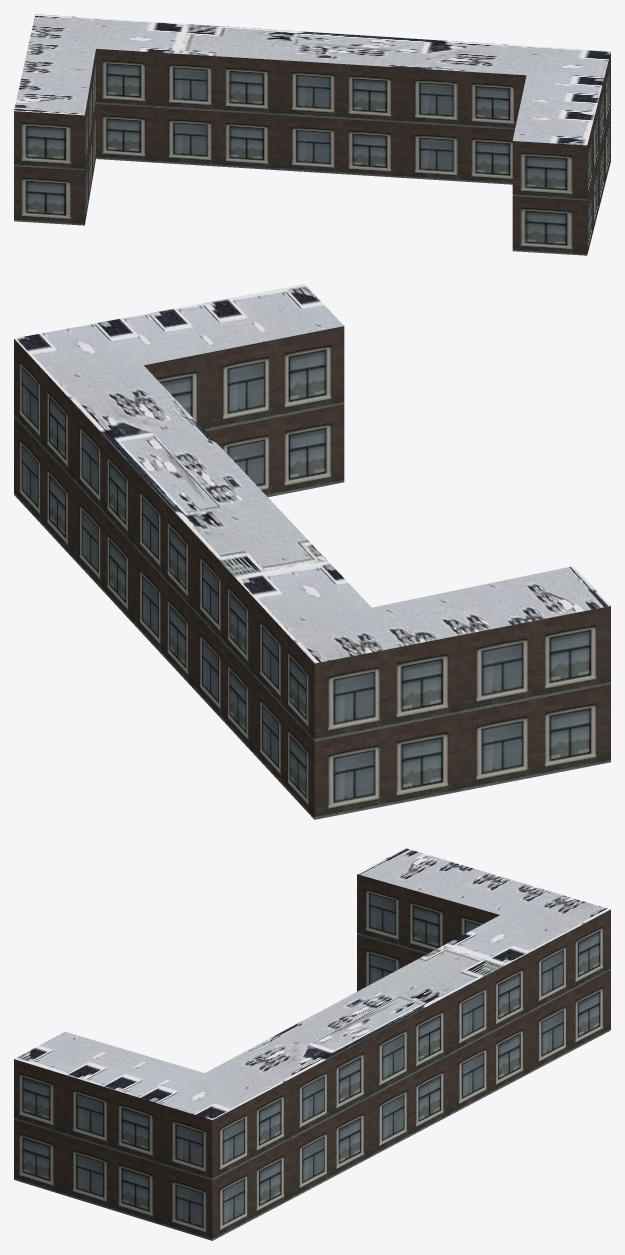
File: ResTex__1858.fbx
3 renders of one model, top to bottom at view 1: azimuth 30°, elevation 25°; view 2: azimuth 150°, elevation 25°; view 3: azimuth 270°, elevation 25°, orthographic. The views are drawn at different scales.
Visible parts, largest first — view 1: CityEngineMaterial_16_m, CityEngineMaterial_15_m; view 2: CityEngineMaterial_16_m, CityEngineMaterial_15_m; view 3: CityEngineMaterial_16_m, CityEngineMaterial_15_m.
Boxes of the visible parts, <box> form: CityEngineMaterial_16_m: <box>14,48,610,255</box>; CityEngineMaterial_15_m: <box>14,14,610,145</box>; CityEngineMaterial_16_m: <box>14,326,610,819</box>; CityEngineMaterial_15_m: <box>14,284,610,663</box>; CityEngineMaterial_16_m: <box>14,874,610,1240</box>; CityEngineMaterial_15_m: <box>14,848,610,1119</box>.
Size of the model in its own units: 28.99 by 6 by 26.88.
2 materials, 2 textured.
